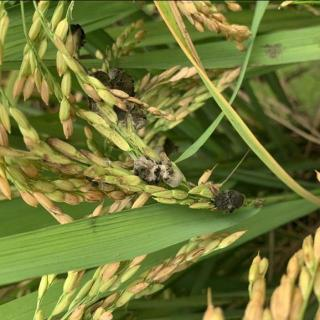Gosong-Palsu: (86, 67, 146, 123), (132, 149, 184, 189), (211, 187, 245, 214), (61, 22, 87, 52)
